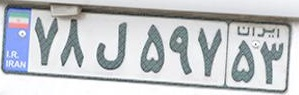character: (93, 15, 128, 75), (195, 22, 225, 79), (58, 15, 88, 70), (136, 22, 166, 75), (32, 13, 58, 68), (259, 36, 286, 87), (168, 22, 193, 77), (228, 38, 257, 85)
